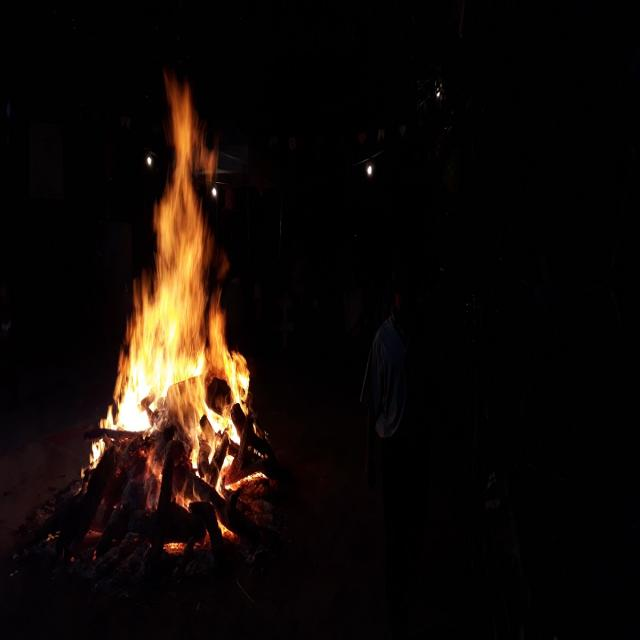fire: (105, 159, 262, 458)
